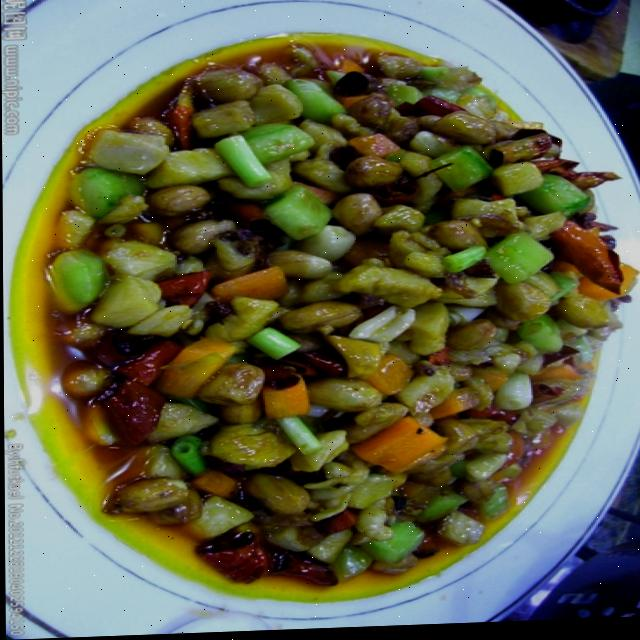鸡肉料理 含炸鸡: (17, 8, 637, 623)
